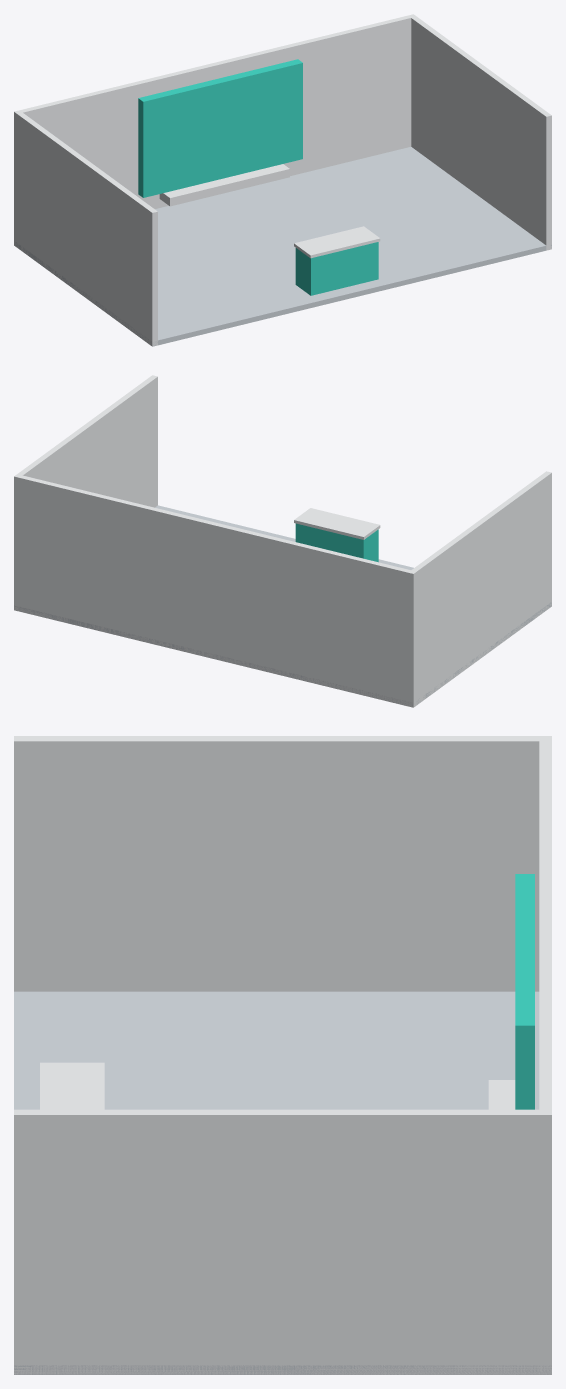
The picture shows the model from 3 angles, top to bottom: view 1: azimuth 30°, elevation 25°; view 2: azimuth 150°, elevation 25°; view 3: azimuth 270°, elevation 25°; orthographic projection. The views are drawn at different scales.
Visible parts, largest first — view 1: Exhibition Booth Concept; view 2: Exhibition Booth Concept; view 3: Exhibition Booth Concept.
Part boxes in pixels (x1,y1,x2,y2): Exhibition Booth Concept: [14, 14, 551, 346]; Exhibition Booth Concept: [14, 375, 551, 707]; Exhibition Booth Concept: [14, 736, 551, 1374].
Size of the model in its own units: 10 by 3.2 by 6.
